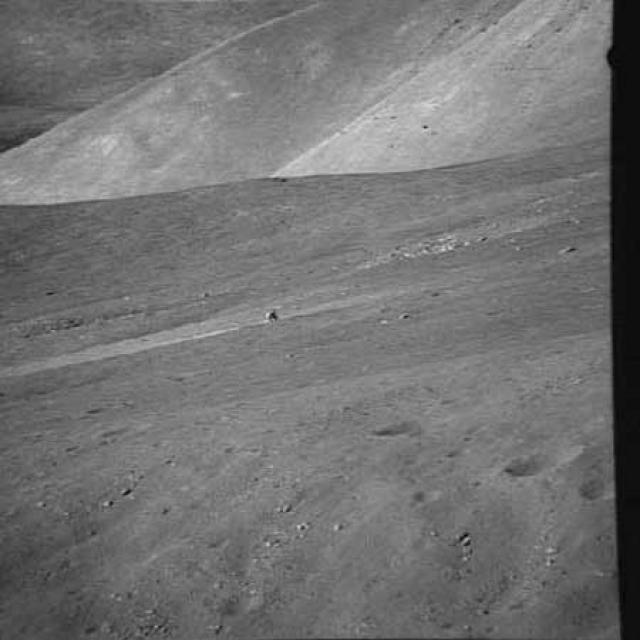crater: (498, 435, 587, 479), (365, 406, 426, 443), (576, 467, 622, 504)
